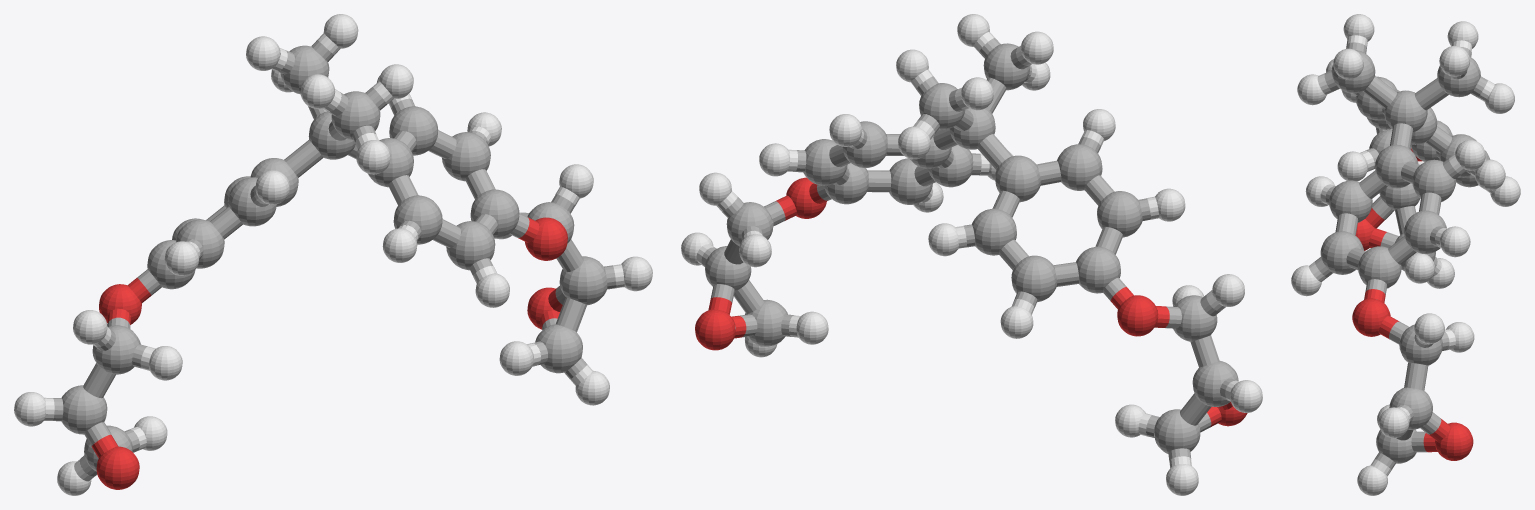
Rendered from Bisphenol_A_Diglycidyl_Ether.fbx.
3 renders of one model, left to right at view 1: azimuth 30°, elevation 25°; view 2: azimuth 150°, elevation 25°; view 3: azimuth 270°, elevation 25°, orthographic. The views are drawn at different scales.
Visible parts, largest first — view 1: ShapeSphere.005, ShapeSphere.006, ShapeSphere.009, ShapeSphere.023, ShapeSphere.021, ShapeSphere.015, ShapeSphere.019, ShapeSphere.017, ShapeSphere.001, ShapeSphere.011, ShapeSphere.014, ShapeSphere.018 (+29 smaller); view 2: ShapeSphere.008, ShapeSphere.016, ShapeSphere.020, ShapeSphere.018, ShapeSphere.022, ShapeSphere.024, ShapeSphere.010, ShapeSphere.006, ShapeSphere, ShapeSphere.023, ShapeSphere.003, ShapeSphere.014 (+32 smaller); view 3: ShapeSphere.019, ShapeSphere.015, ShapeSphere.017, ShapeSphere.021, ShapeSphere.007, ShapeSphere.023, ShapeSphere.004, ShapeSphere.005, ShapeSphere.002, ShapeSphere, ShapeSphere.013, ShapeSphere.012 (+43 smaller).
Part boxes in pixels (<box>): ShapeSphere.005: <box>559,256,607,305</box>; ShapeSphere.006: <box>61,385,107,434</box>; ShapeSphere.009: <box>535,324,582,373</box>; ShapeSphere.023: <box>442,132,490,181</box>; ShapeSphere.021: <box>446,221,495,270</box>; ShapeSphere.015: <box>393,195,442,244</box>; ShapeSphere.019: <box>470,189,519,238</box>; ShapeSphere.017: <box>389,106,438,155</box>; ShapeSphere.001: <box>96,446,139,489</box>; ShapeSphere.011: <box>331,91,380,140</box>; ShapeSphere.014: <box>92,325,140,374</box>; ShapeSphere.018: <box>228,177,276,226</box>; ShapeSphere.008: <box>995,155,1040,202</box>; ShapeSphere.016: <box>972,208,1016,255</box>; ShapeSphere.020: <box>1076,246,1120,293</box>; ShapeSphere.018: <box>1057,144,1102,190</box>; ShapeSphere.022: <box>1011,255,1056,301</box>; ShapeSphere.024: <box>1097,191,1142,237</box>; ShapeSphere.010: <box>1154,409,1200,453</box>; ShapeSphere.006: <box>1192,361,1238,406</box>; ShapeSphere: <box>695,309,735,350</box>; ShapeSphere.023: <box>803,139,847,185</box>; ShapeSphere.003: <box>1117,295,1158,336</box>; ShapeSphere.014: <box>1173,295,1217,341</box>; ShapeSphere.019: <box>1358,246,1401,288</box>; ShapeSphere.015: <box>1329,180,1372,222</box>; ShapeSphere.017: <box>1412,159,1455,201</box>; ShapeSphere.021: <box>1320,231,1363,274</box>; ShapeSphere.007: <box>1375,144,1418,188</box>; ShapeSphere.023: <box>1404,210,1446,254</box>; ShapeSphere.004: <box>1384,90,1427,132</box>; ShapeSphere.005: <box>1389,387,1432,429</box>; ShapeSphere.002: <box>1352,298,1390,336</box>; ShapeSphere: <box>1435,422,1473,460</box>; ShapeSphere.013: <box>1399,324,1442,365</box>; ShapeSphere.012: <box>1437,56,1480,97</box>.
Size of the model in its own units: 1482 by 925 by 536.
